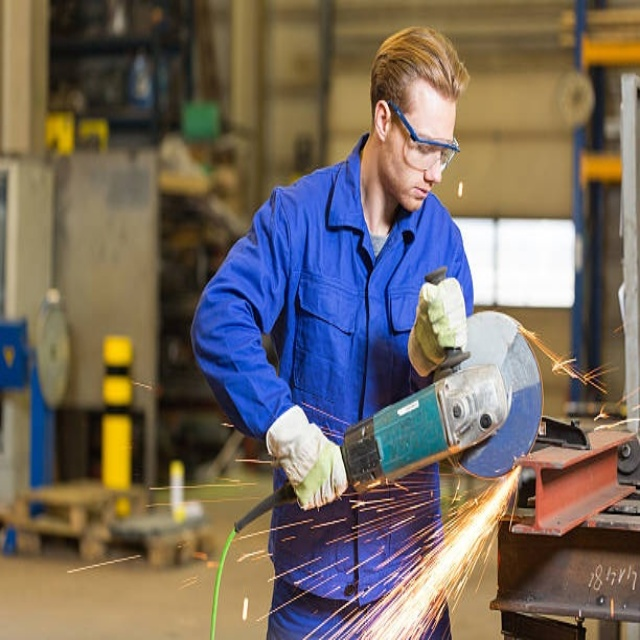Gafas: (384, 99, 461, 175)
Guantes: (267, 404, 342, 512), (408, 272, 468, 378)
Sin_mascara: (402, 180, 439, 215)
